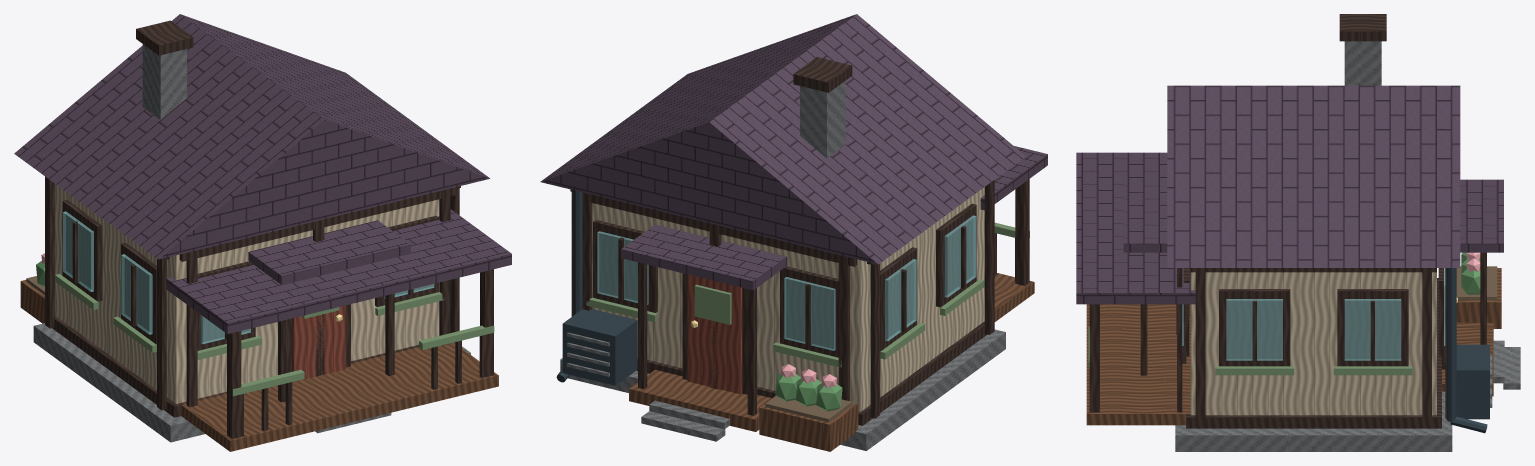
File: house_tudor_lv1_porch.glb
3 views of the same model, side by side, from view 1: azimuth 30°, elevation 25°; view 2: azimuth 150°, elevation 25°; view 3: azimuth 270°, elevation 25° (orthographic). The views are drawn at different scales.
Visible parts, largest first — view 1: gable_roof, walls, porch_roof, porch_floor, front_porch_canopy, foundation, front_door, chimney, left_window_frame.001, left_window_frame, front_timber_band, floor_trim (+24 smaller); view 2: gable_roof, walls, back_porch_canopy, back_door, foundation, back_ac_unit, back_window_frame, back_deck, back_window_frame.001, back_garden_bed, back_window_glass, chimney (+31 smaller); view 3: gable_roof, walls, porch_roof, porch_floor, foundation, right_window_frame.001, right_window_frame, floor_trim, right_window_glass.001, front_porch_canopy, right_window_glass, back_porch_canopy (+21 smaller).
Part boxes in pixels (x1,y1,x2,y2): gable_roof: (14, 14, 489, 259); walls: (54, 184, 439, 403); porch_roof: (166, 209, 511, 333); porch_floor: (180, 342, 498, 451); front_porch_canopy: (248, 220, 410, 284); foundation: (33, 323, 470, 442); front_door: (292, 305, 345, 381); chimney: (142, 44, 186, 119); left_window_frame.001: (62, 200, 102, 301); left_window_frame: (121, 242, 156, 344); front_timber_band: (179, 187, 456, 261); floor_trim: (52, 315, 455, 417); gable_roof: (540, 14, 1025, 264); walls: (592, 187, 984, 411); back_porch_canopy: (621, 224, 787, 290); back_door: (687, 274, 742, 394); foundation: (560, 329, 1005, 450); back_ac_unit: (562, 309, 637, 385); back_window_frame: (780, 266, 838, 357); back_deck: (629, 370, 771, 431); back_window_frame.001: (593, 219, 657, 312); back_garden_bed: (759, 396, 858, 451); back_window_glass: (784, 277, 835, 350); chimney: (800, 81, 845, 158); gable_roof: (1167, 85, 1460, 267); walls: (1190, 272, 1436, 415); porch_roof: (1076, 152, 1195, 304); porch_floor: (1086, 304, 1190, 425); foundation: (1175, 391, 1452, 451); right_window_frame.001: (1337, 289, 1408, 366); right_window_frame: (1219, 289, 1290, 366); floor_trim: (1186, 278, 1441, 428); right_window_glass.001: (1344, 299, 1401, 360); front_porch_canopy: (1123, 179, 1167, 252); right_window_glass: (1226, 299, 1282, 360); back_porch_canopy: (1460, 179, 1503, 252).
Size of the model in its own units: 3.15 by 2.9 by 3.61.
13 materials, 7 textured.
